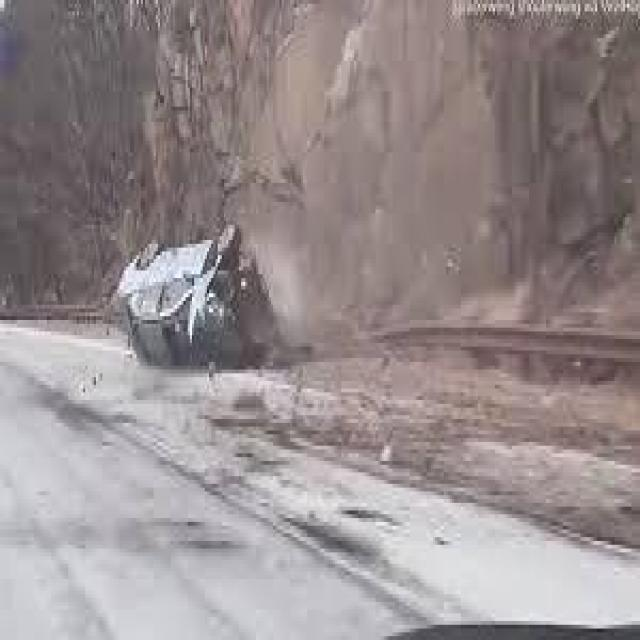accident: (116, 212, 276, 372)
